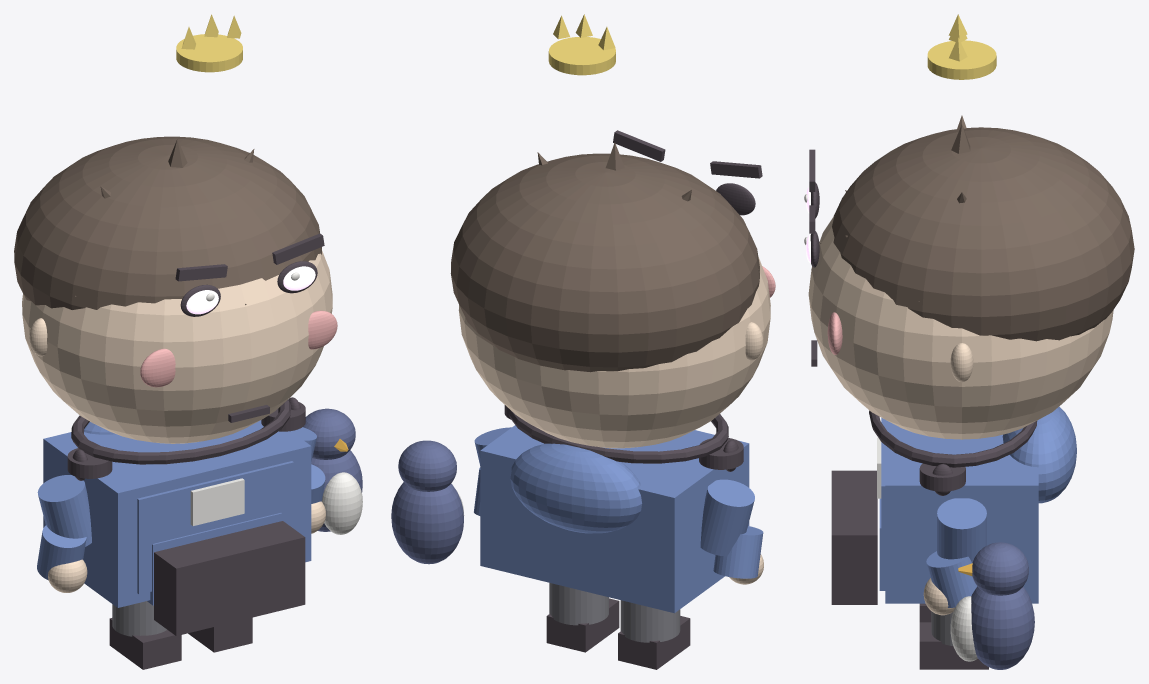
File: mediocre.glb
3 views of the same model, side by side, from view 1: azimuth 30°, elevation 25°; view 2: azimuth 150°, elevation 25°; view 3: azimuth 270°, elevation 25° (orthographic). The views are drawn at different scales.
Visible parts, largest first — view 1: HairCap, Head, Coat, Controller, CoatFront, HeadphoneBand, UpperArm_L, Shoe_L, CrownBand, PenguinBelly, HoodieLogo, PenguinHead (+15 smaller); view 2: HairCap, Coat, Head, HoodBack, PenguinBody, UpperArm_L, HeadphoneBand, PenguinHead, CrownBand, Leg_L, Leg_R, Shoe_R (+7 smaller); view 3: HairCap, Head, Coat, Controller, PenguinBody, HoodBack, UpperArm_R, PenguinHead, HeadphoneBand, CrownBand, Forearm_R, Shoe_R (+7 smaller).
Part boxes in pixels (bbox=[...]): HairCap: bbox=[14, 136, 321, 309]; Head: bbox=[22, 251, 332, 443]; Coat: bbox=[43, 420, 311, 607]; Controller: bbox=[154, 521, 305, 635]; CoatFront: bbox=[137, 461, 293, 594]; HeadphoneBand: bbox=[71, 400, 290, 464]; UpperArm_L: bbox=[37, 475, 91, 546]; Shoe_L: bbox=[109, 618, 181, 669]; CrownBand: bbox=[176, 34, 242, 72]; PenguinBelly: bbox=[322, 472, 362, 534]; HoodieLogo: bbox=[190, 478, 244, 525]; PenguinHead: bbox=[303, 408, 355, 459]; HairCap: bbox=[450, 153, 759, 372]; Coat: bbox=[480, 425, 749, 613]; Head: bbox=[458, 257, 770, 448]; HoodBack: bbox=[510, 443, 642, 533]; PenguinBody: bbox=[391, 482, 463, 564]; UpperArm_L: bbox=[700, 479, 754, 556]; HeadphoneBand: bbox=[508, 408, 728, 463]; PenguinHead: bbox=[398, 440, 456, 491]; CrownBand: bbox=[548, 37, 615, 75]; Leg_L: bbox=[620, 600, 680, 642]; Leg_R: bbox=[549, 583, 608, 625]; Shoe_R: bbox=[546, 598, 619, 652]; HairCap: bbox=[832, 127, 1134, 341]; Head: bbox=[808, 216, 1113, 439]; Coat: bbox=[885, 420, 1038, 603]; Controller: bbox=[831, 470, 877, 604]; PenguinBody: bbox=[971, 586, 1034, 669]; HoodBack: bbox=[1002, 406, 1076, 503]; UpperArm_R: bbox=[937, 498, 986, 562]; PenguinHead: bbox=[972, 542, 1028, 595]; HeadphoneBand: bbox=[869, 410, 1037, 467]; CrownBand: bbox=[927, 40, 996, 79]; Forearm_R: bbox=[926, 551, 977, 607]; Shoe_R: bbox=[919, 622, 988, 669].
Bounding box in the file's own units: 1.17 × 2 × 0.9359.
